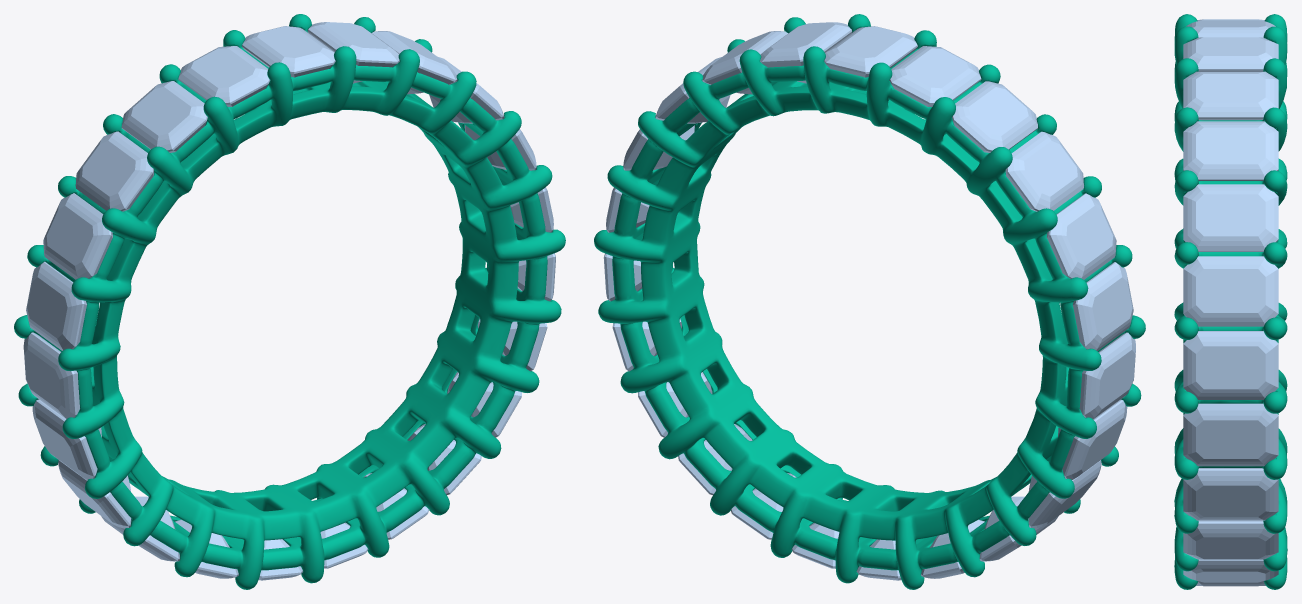
Rendered from BE2DEM400ELC_RENDER.glb.
3 views of the same model, side by side, from view 1: azimuth 30°, elevation 25°; view 2: azimuth 150°, elevation 25°; view 3: azimuth 270°, elevation 25° (orthographic).
Parts seen in each view (by area): view 1: Metal03, Diamond_Emerald_Gem_BD.003, Diamond_Emerald_Gem_BD.004, Diamond_Emerald_Gem_BD.002, Diamond_Emerald_Gem_BD.001, Diamond_Emerald_Gem_BD.005, Diamond_Emerald_Gem_BD, Diamond_Emerald_Gem_BD.006, Diamond_Emerald_Gem_BD.022, Diamond_Emerald_Gem_BD.007, Diamond_Emerald_Gem_BD.021, Diamond_Emerald_Gem_BD.008 (+6 smaller); view 2: Metal03, Diamond_Emerald_Gem_BD.003, Diamond_Emerald_Gem_BD.004, Diamond_Emerald_Gem_BD.002, Diamond_Emerald_Gem_BD.005, Diamond_Emerald_Gem_BD.001, Diamond_Emerald_Gem_BD, Diamond_Emerald_Gem_BD.006, Diamond_Emerald_Gem_BD.022, Diamond_Emerald_Gem_BD.007, Diamond_Emerald_Gem_BD.008, Diamond_Emerald_Gem_BD.021 (+6 smaller); view 3: Metal03, Diamond_Emerald_Gem_BD.019, Diamond_Emerald_Gem_BD.018, Diamond_Emerald_Gem_BD.020, Diamond_Emerald_Gem_BD.017, Diamond_Emerald_Gem_BD.021, Diamond_Emerald_Gem_BD.016, Diamond_Emerald_Gem_BD.022, Diamond_Emerald_Gem_BD.015, Diamond_Emerald_Gem_BD, Diamond_Emerald_Gem_BD.014, Diamond_Emerald_Gem_BD.001 (+1 smaller).
Boxes of the visible parts, left/top/right/bottom form: Metal03: left=14, top=14, right=565, bottom=589; Diamond_Emerald_Gem_BD.003: left=75, top=131, right=153, bottom=211; Diamond_Emerald_Gem_BD.004: left=43, top=193, right=112, bottom=279; Diamond_Emerald_Gem_BD.002: left=121, top=81, right=207, bottom=152; Diamond_Emerald_Gem_BD.001: left=178, top=46, right=270, bottom=106; Diamond_Emerald_Gem_BD.005: left=26, top=261, right=86, bottom=350; Diamond_Emerald_Gem_BD: left=242, top=26, right=335, bottom=77; Diamond_Emerald_Gem_BD.006: left=23, top=332, right=79, bottom=419; Diamond_Emerald_Gem_BD.022: left=307, top=22, right=399, bottom=83; Diamond_Emerald_Gem_BD.007: left=32, top=399, right=101, bottom=479; Diamond_Emerald_Gem_BD.021: left=371, top=31, right=457, bottom=94; Diamond_Emerald_Gem_BD.008: left=58, top=460, right=131, bottom=528; Metal03: left=594, top=14, right=1145, bottom=589; Diamond_Emerald_Gem_BD.003: left=1005, top=131, right=1083, bottom=211; Diamond_Emerald_Gem_BD.004: left=1046, top=193, right=1116, bottom=279; Diamond_Emerald_Gem_BD.002: left=952, top=81, right=1037, bottom=152; Diamond_Emerald_Gem_BD.005: left=1072, top=262, right=1133, bottom=350; Diamond_Emerald_Gem_BD.001: left=889, top=46, right=981, bottom=106; Diamond_Emerald_Gem_BD: left=824, top=26, right=917, bottom=77; Diamond_Emerald_Gem_BD.006: left=1079, top=332, right=1135, bottom=419; Diamond_Emerald_Gem_BD.022: left=760, top=22, right=852, bottom=83; Diamond_Emerald_Gem_BD.007: left=1058, top=399, right=1127, bottom=479; Diamond_Emerald_Gem_BD.008: left=1028, top=460, right=1101, bottom=528; Diamond_Emerald_Gem_BD.021: left=702, top=31, right=787, bottom=94; Metal03: left=1174, top=14, right=1287, bottom=589; Diamond_Emerald_Gem_BD.019: left=1183, top=256, right=1278, bottom=326; Diamond_Emerald_Gem_BD.018: left=1183, top=331, right=1278, bottom=399; Diamond_Emerald_Gem_BD.020: left=1183, top=184, right=1278, bottom=251; Diamond_Emerald_Gem_BD.017: left=1183, top=403, right=1278, bottom=466; Diamond_Emerald_Gem_BD.021: left=1183, top=121, right=1278, bottom=180; Diamond_Emerald_Gem_BD.016: left=1183, top=468, right=1278, bottom=520; Diamond_Emerald_Gem_BD.022: left=1183, top=71, right=1278, bottom=120; Diamond_Emerald_Gem_BD.015: left=1183, top=520, right=1278, bottom=559; Diamond_Emerald_Gem_BD: left=1183, top=37, right=1278, bottom=71; Diamond_Emerald_Gem_BD.014: left=1183, top=559, right=1278, bottom=582; Diamond_Emerald_Gem_BD.001: left=1186, top=20, right=1275, bottom=37.
Size of the model in its own units: 22.11 by 22.05 by 4.34.
